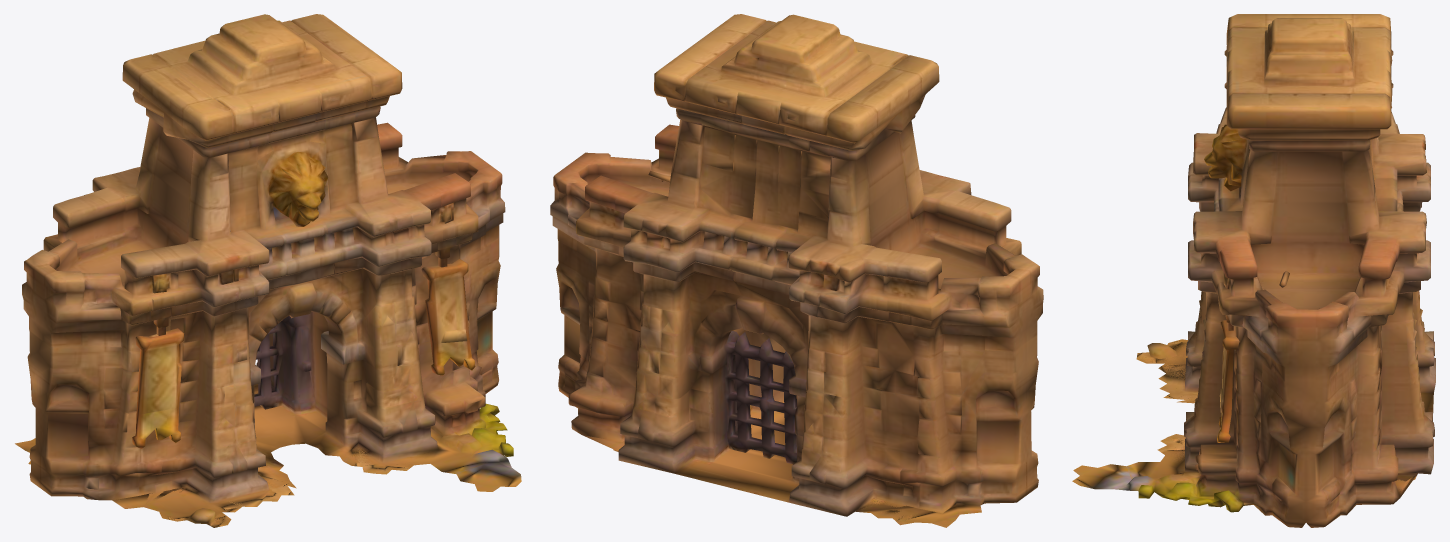
3 views of the same model, side by side, from view 1: azimuth 30°, elevation 25°; view 2: azimuth 150°, elevation 25°; view 3: azimuth 270°, elevation 25° (orthographic). The views are drawn at different scales.
Visible parts, largest first — view 1: tripo_node_6b8b0c74-3f7a-4632-b269-1854b5428ddb; view 2: tripo_node_6b8b0c74-3f7a-4632-b269-1854b5428ddb; view 3: tripo_node_6b8b0c74-3f7a-4632-b269-1854b5428ddb.
Part boxes in pixels (box(x1,y1,x2,y2)): tripo_node_6b8b0c74-3f7a-4632-b269-1854b5428ddb: box(15, 14, 521, 527); tripo_node_6b8b0c74-3f7a-4632-b269-1854b5428ddb: box(550, 14, 1043, 527); tripo_node_6b8b0c74-3f7a-4632-b269-1854b5428ddb: box(1072, 14, 1435, 527).
Size of the model in its own units: 1 by 0.8552 by 0.7182.
1 material, 1 textured.
